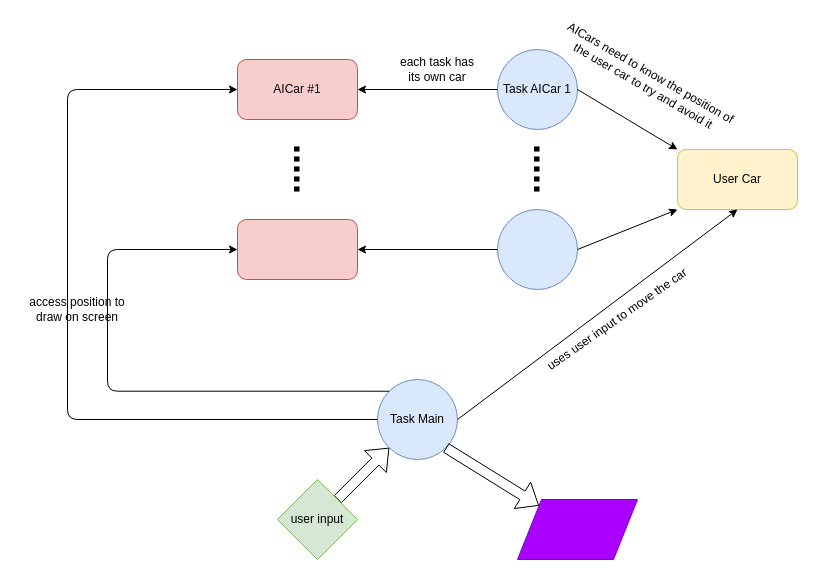
Image size: 815x577. Some labels were removed from this diagram. Each missing label, with the centre of its shape:
"AICar #N" goes at point 297,249.
"SCREEN" goes at point 577,529.
"Task AICar N" goes at point 537,249.
